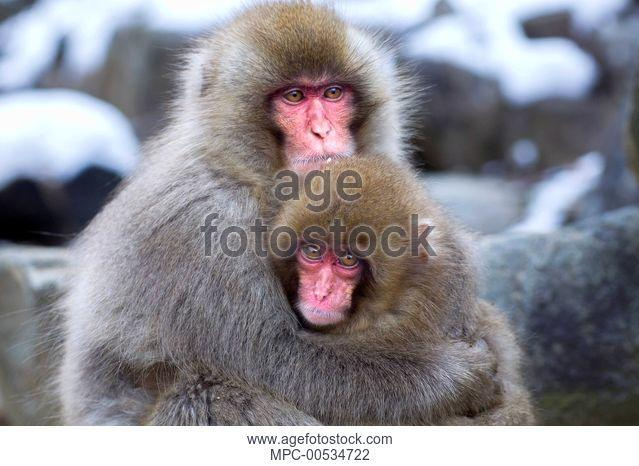monkey: (53, 18, 536, 428)
